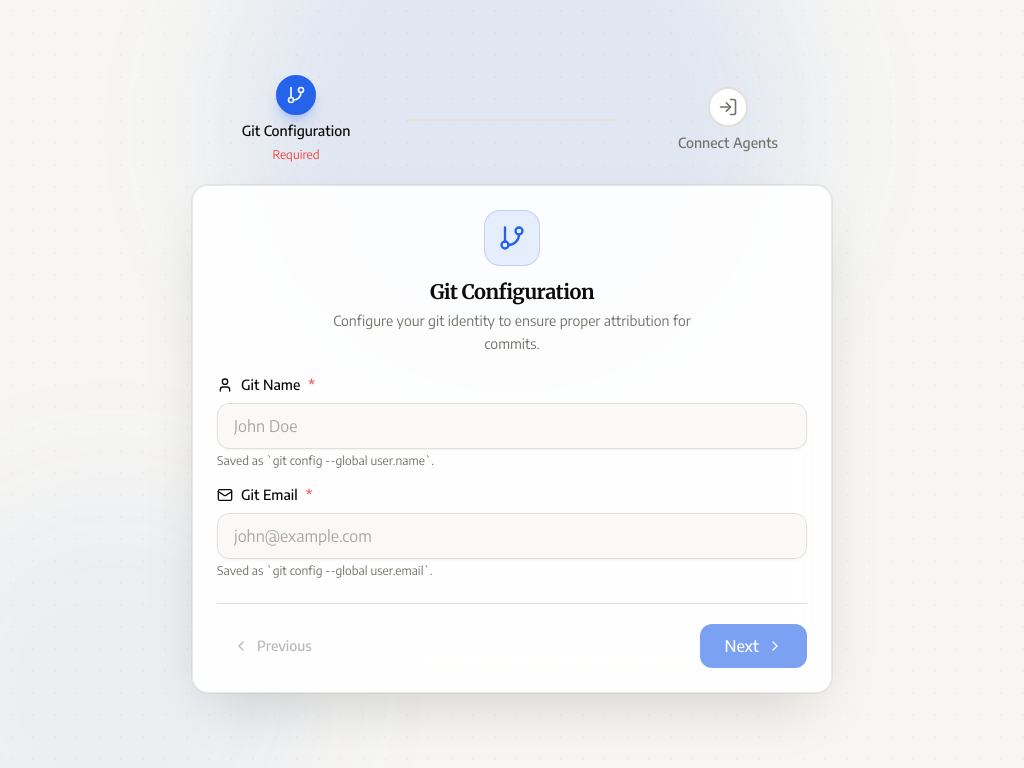
Test case: Onboarding surfaces server errors as text › shows the message of the structured envelope when saving the git identity fails
This screenshot has width=1024, height=768.
Type "Triage" into the field labelled "Git Name *" at (512, 426), box [217,403,807,449]
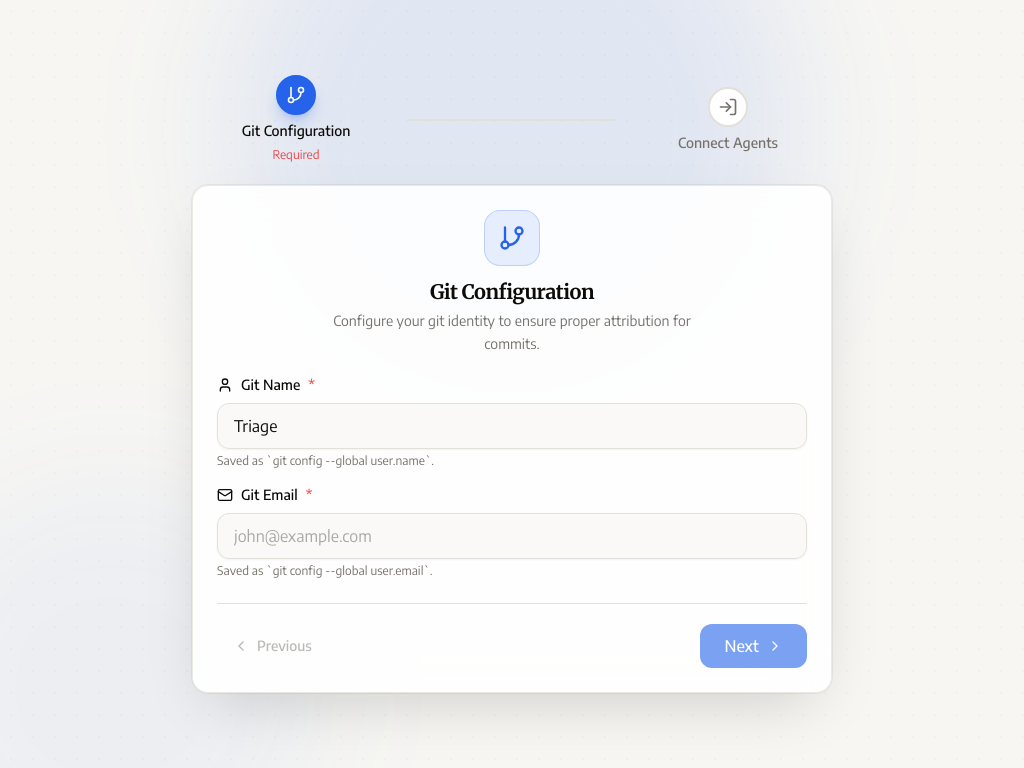
Type "triage@example.com" into the field labelled "Git Email *" at (512, 536), box [217,513,807,559]
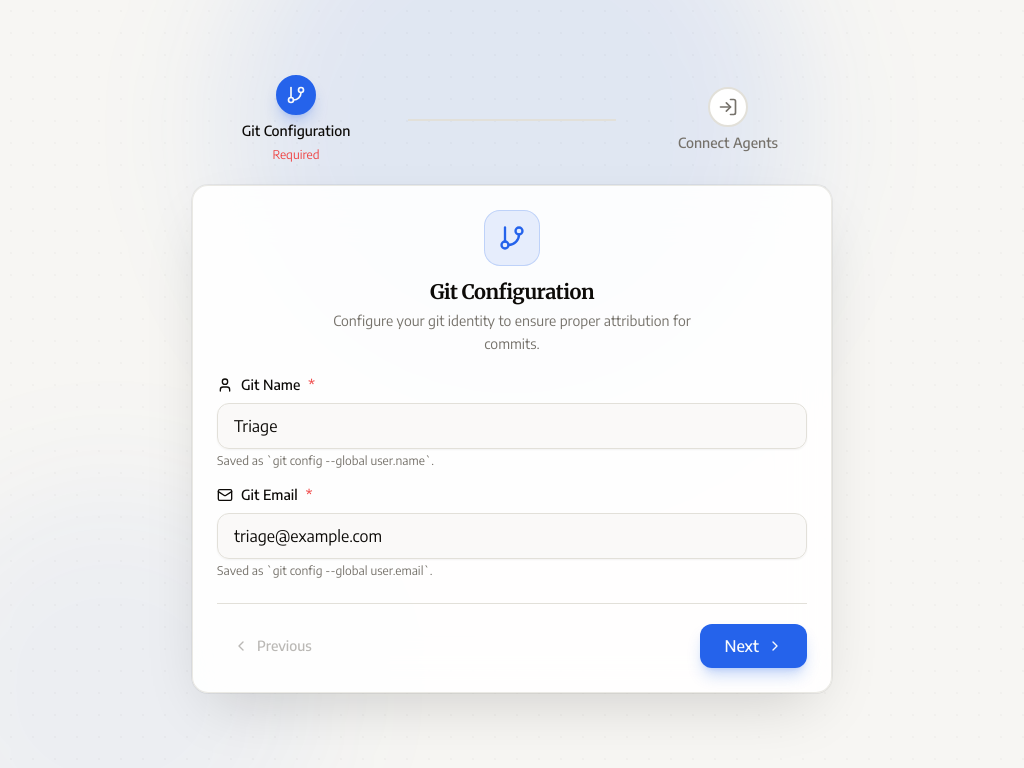
Click the button "Next" at (754, 646), box [700,624,807,668]
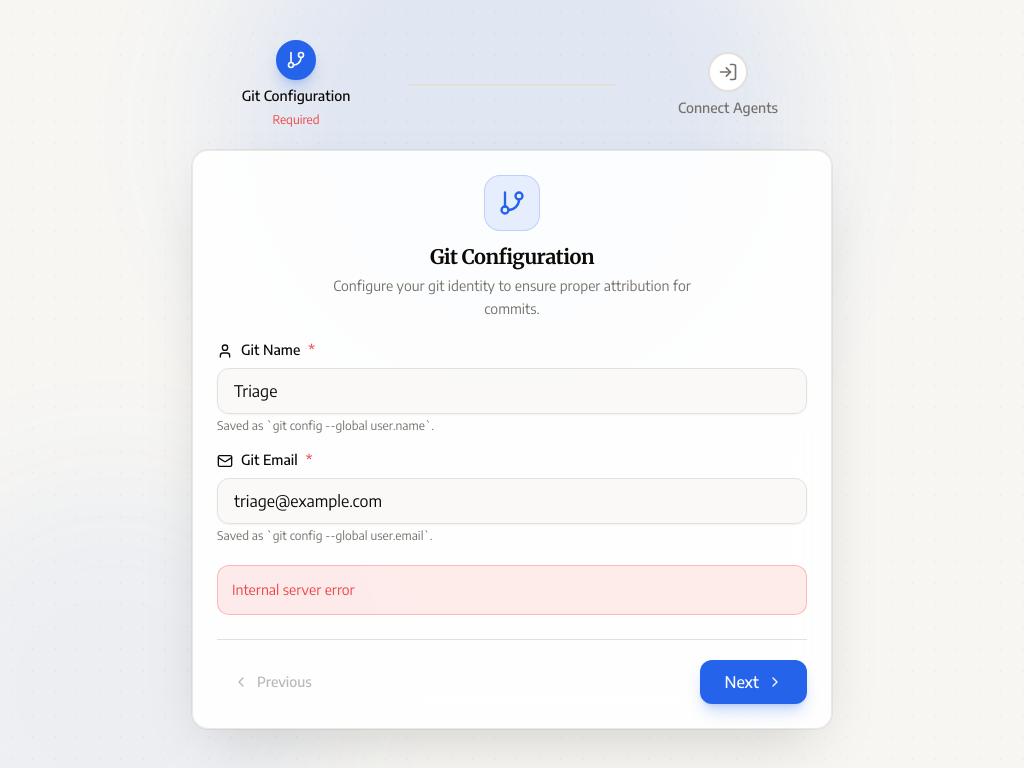
Expected: the message reads "Internal server error", [232,580,355,598]
